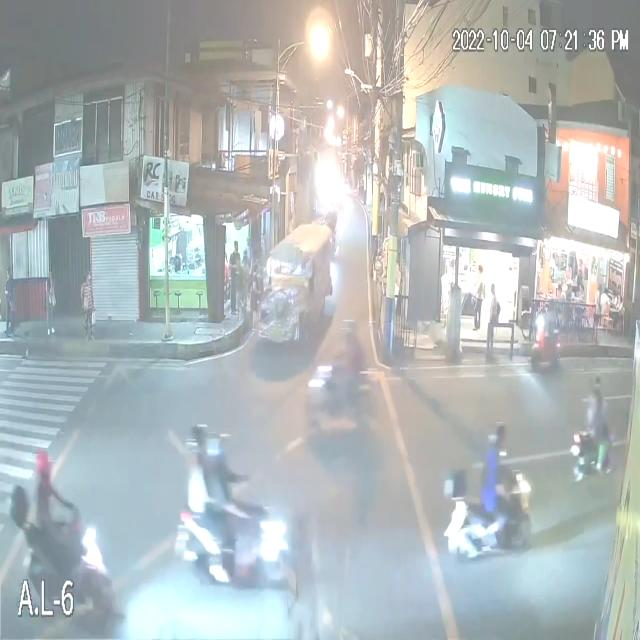Full-Faced: (32, 447, 54, 495), (487, 419, 510, 456), (589, 374, 602, 391)
Half-Faced: (209, 426, 233, 464), (188, 422, 209, 462)
